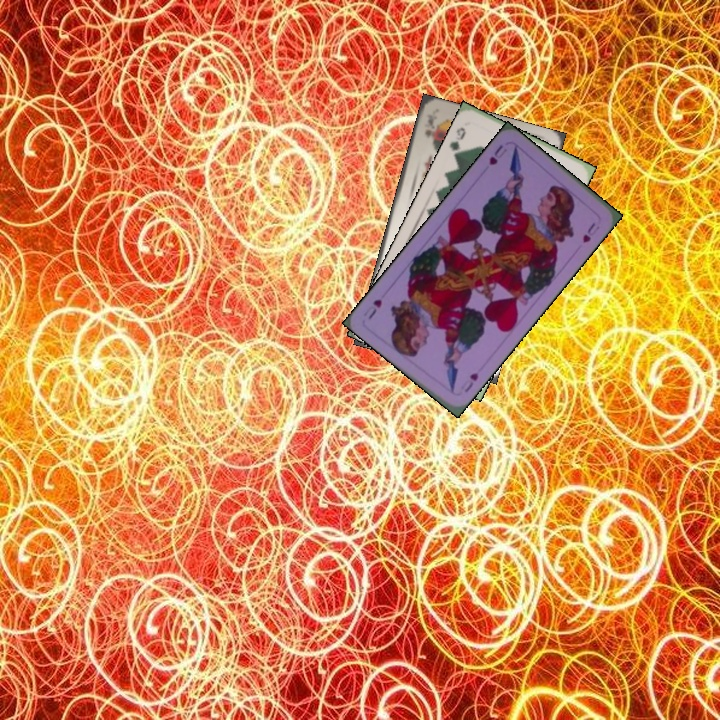G9: (445, 123, 468, 159)
HU: (485, 140, 510, 168), (460, 368, 481, 395)
SK: (421, 115, 437, 141)
